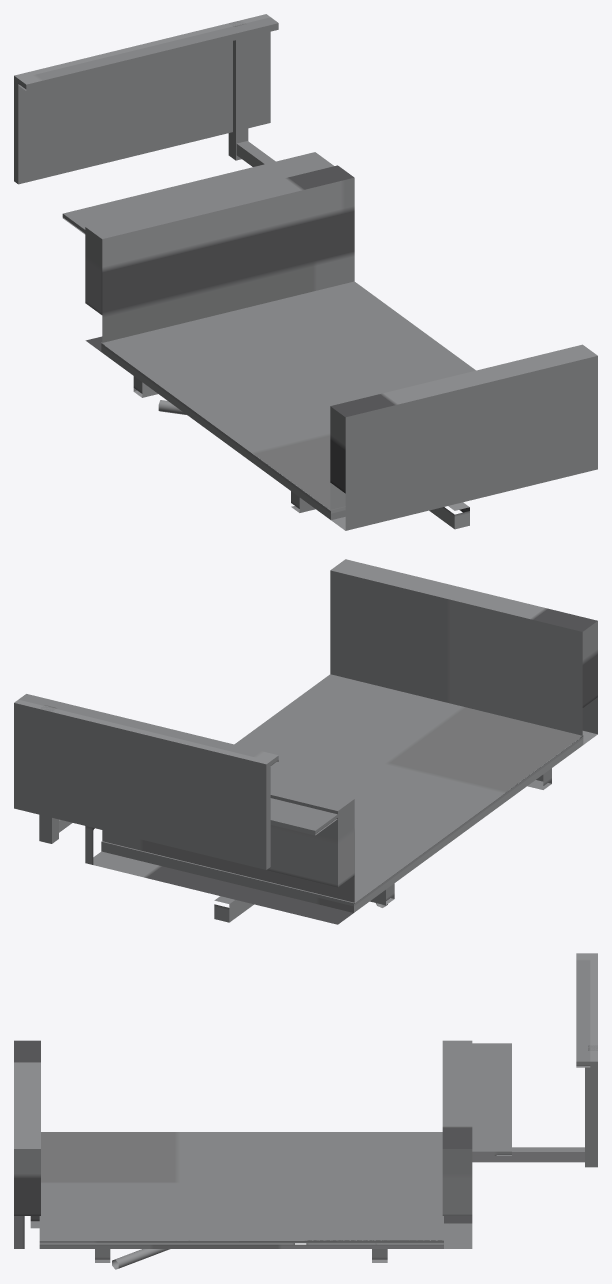
The picture shows the model from 3 angles, top to bottom: view 1: azimuth 30°, elevation 25°; view 2: azimuth 150°, elevation 25°; view 3: azimuth 270°, elevation 25°; orthographic projection. The views are drawn at different scales.
Size of the model in its own units: 1 by 0.935 by 2.28.
